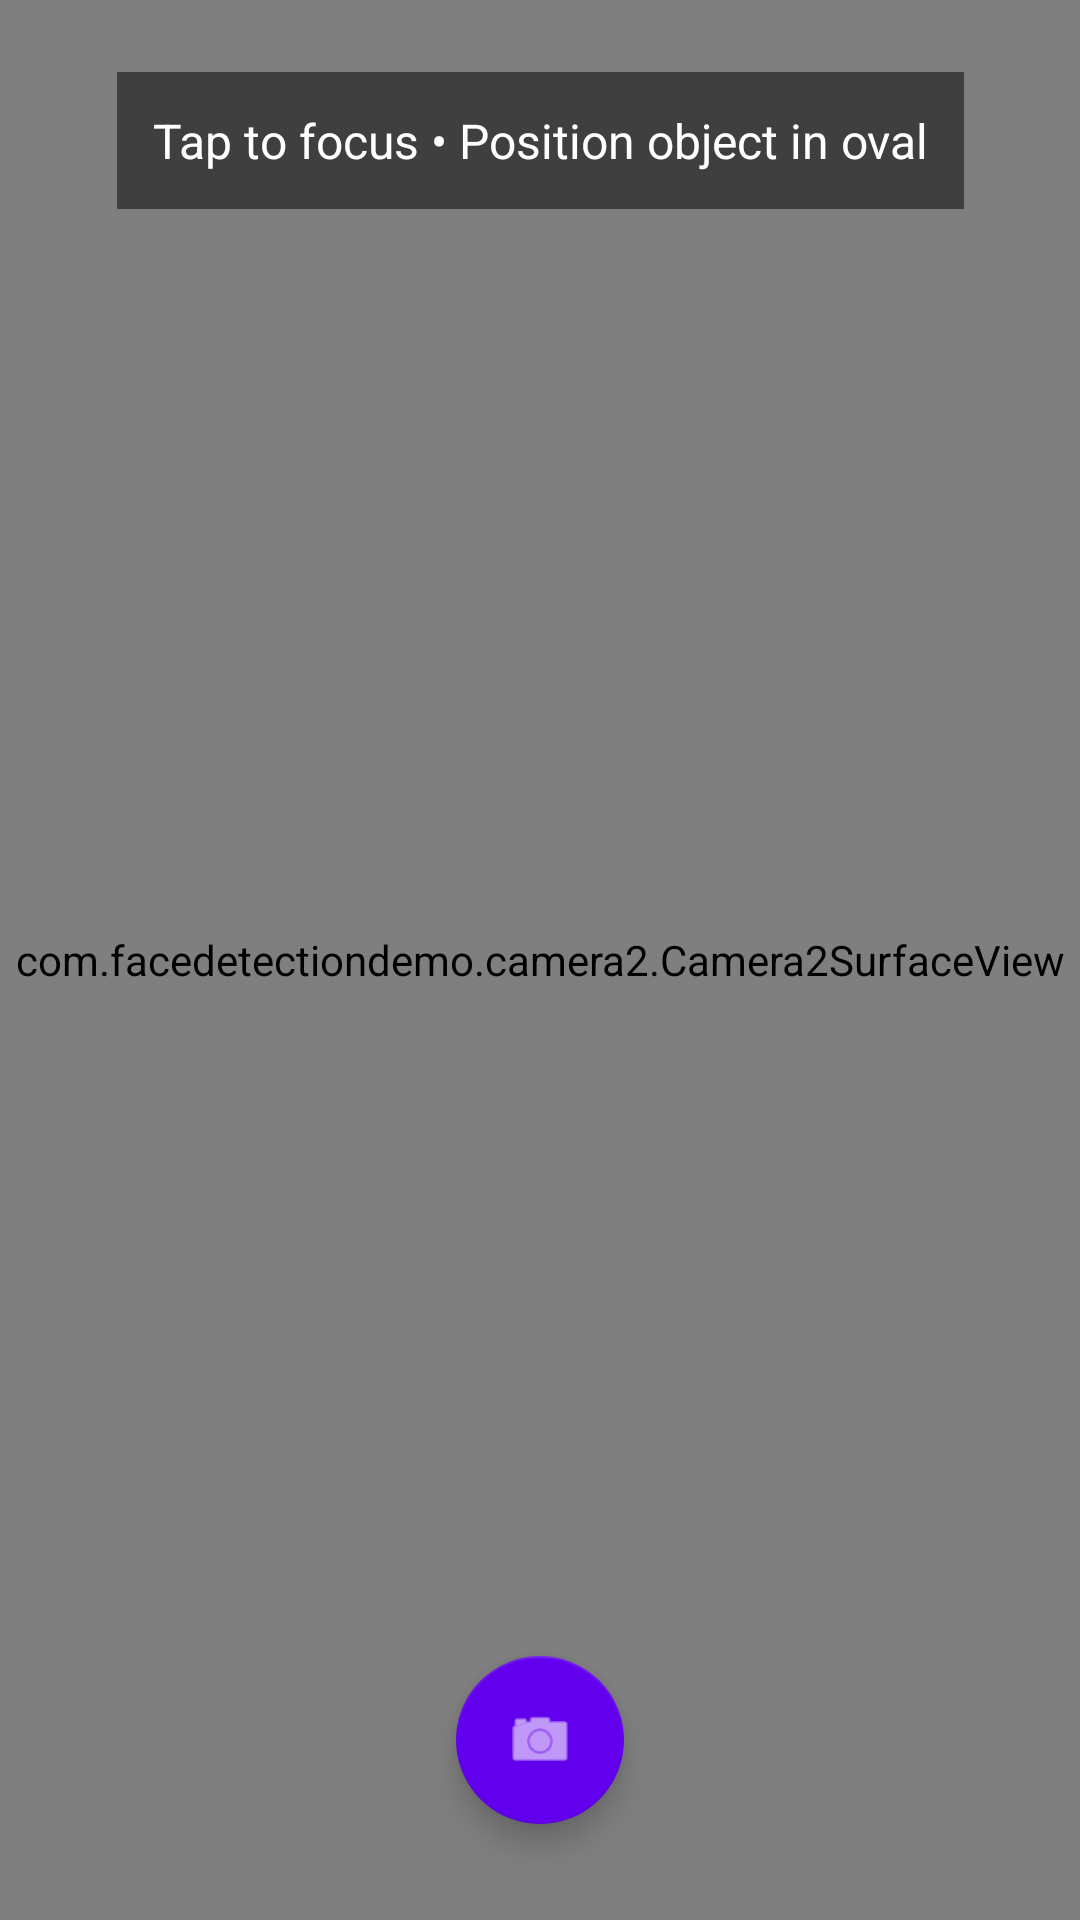

Named icons in this screenshot (1080px x 1920px) and their bounding boxes, (x1, y1, x2, y2):
Capture Image: (456, 1656, 624, 1824)
